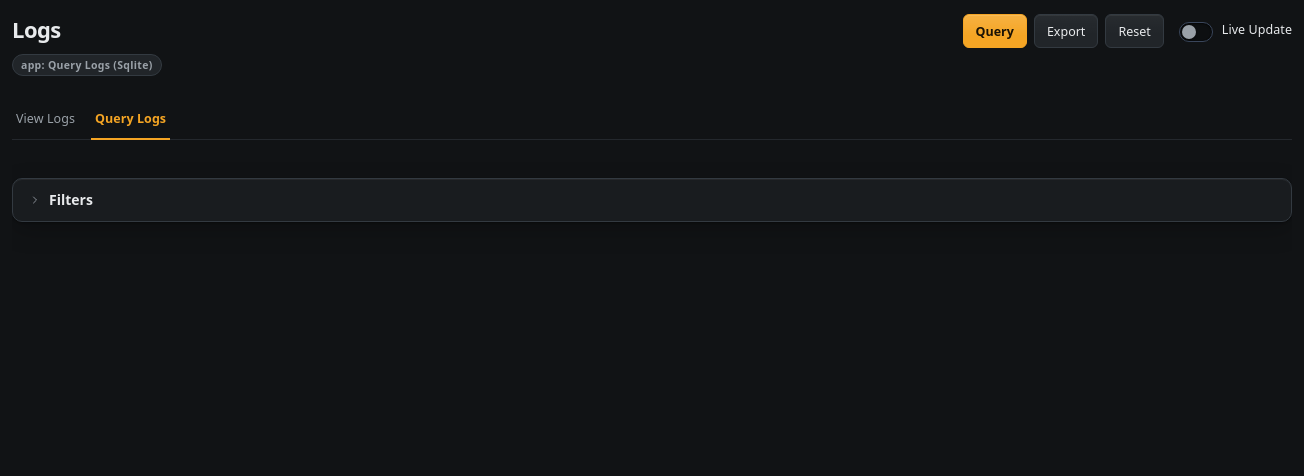
Scenario: Query Logs: the legend below 960 › keeps the seven pills, and its title opens the conditions
Step 1. Click the button "Query" → (995, 31), box [962,14,1027,48]
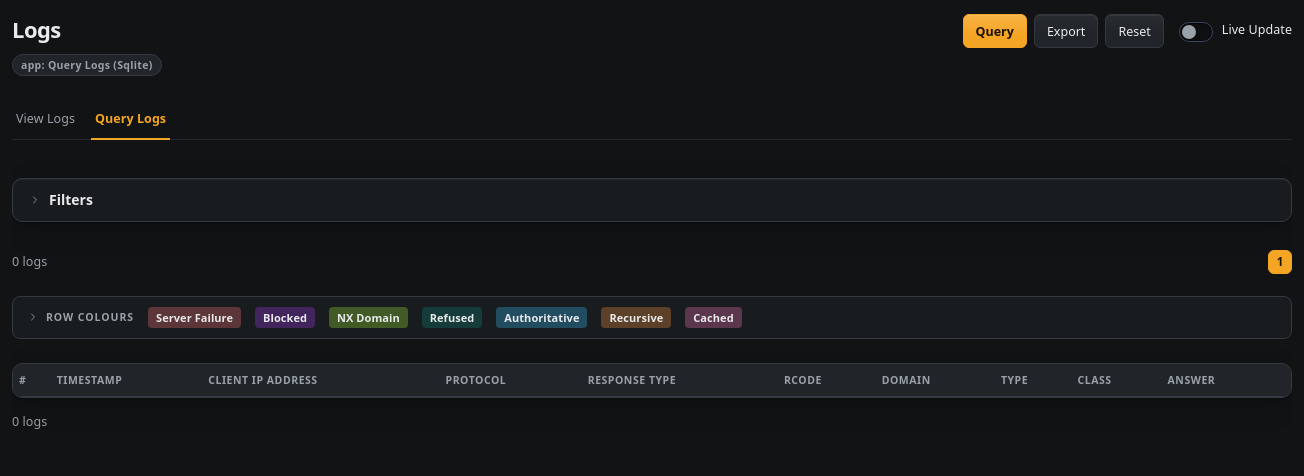
Now the text "Server Failure" is shown, box [148,307,241,328]
Now the text "Blocked" is shown, box [255,307,315,328]
Now the text "NX Domain" is shown, box [329,307,408,328]
Step 2. Click the button "Row colours" → (80, 317), box [27,310,134,324]
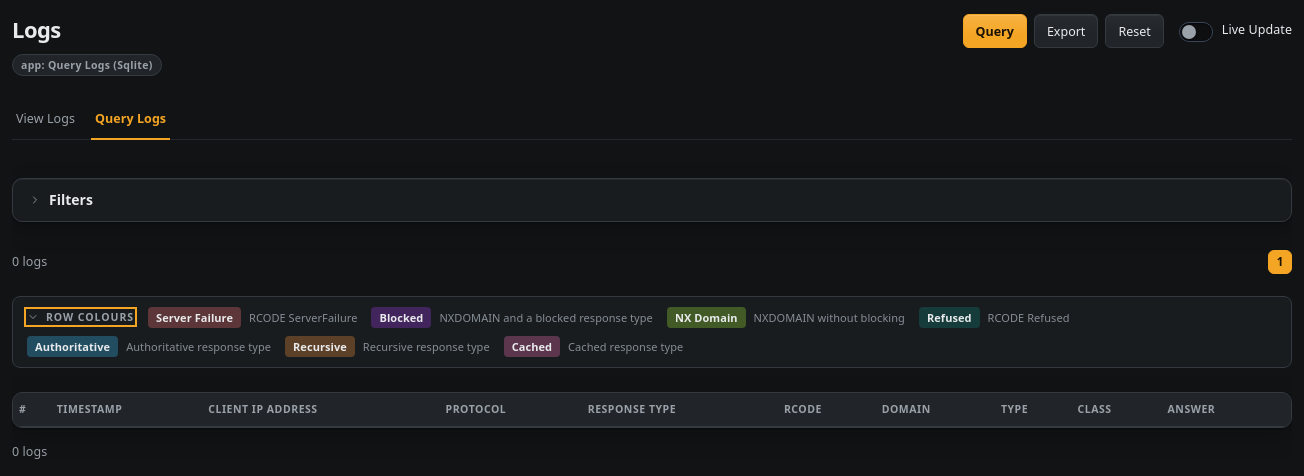
Now the button "Row colours" is expanded, box [27,310,134,324]
